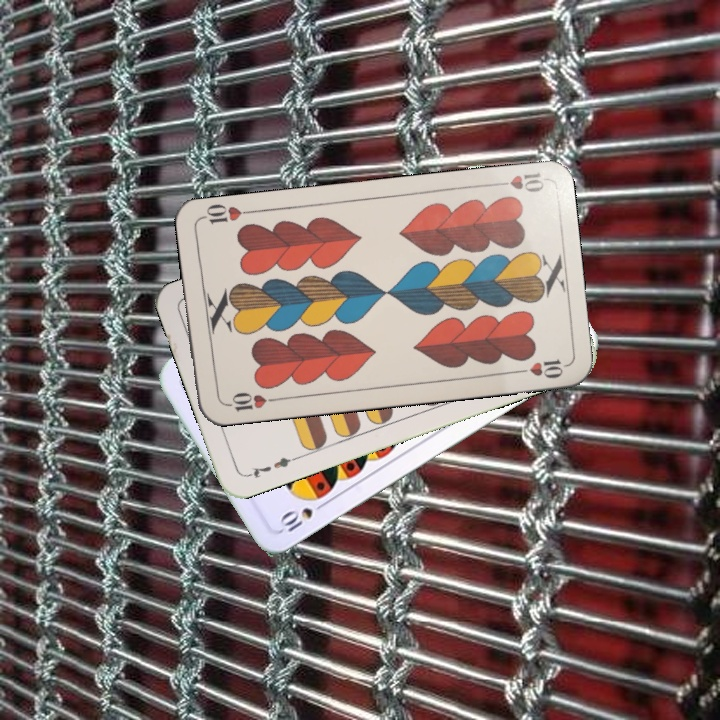E7: (242, 452, 300, 481)
H10: (488, 168, 547, 195), (220, 388, 279, 414)
S10: (276, 497, 330, 535)
